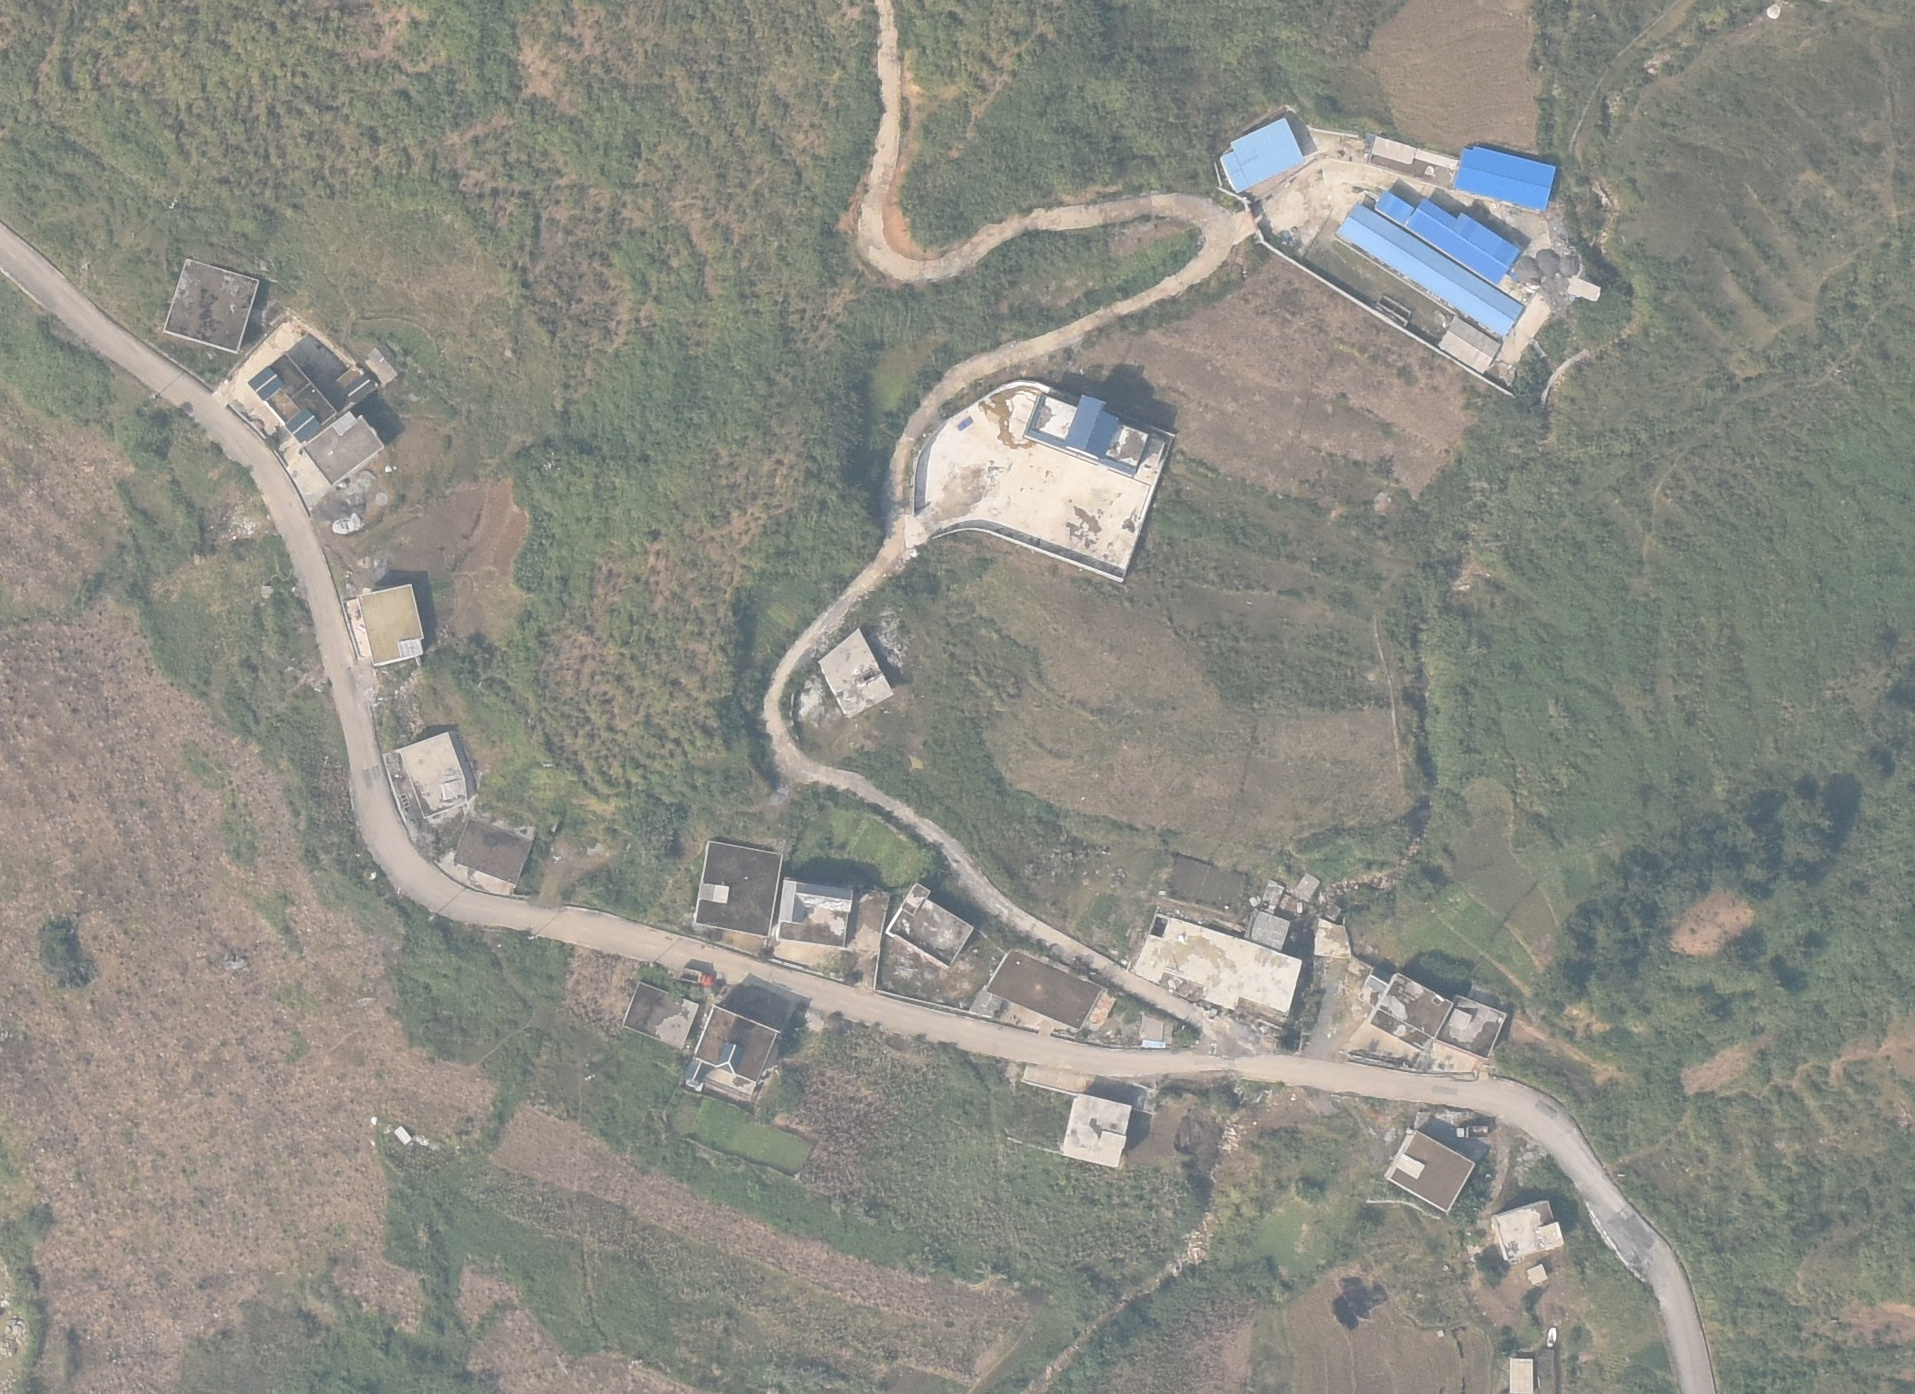building: (1137, 911, 1308, 1015), (1024, 391, 1152, 473), (687, 840, 785, 941), (1381, 1120, 1483, 1214), (696, 999, 780, 1112), (377, 728, 479, 820), (883, 876, 976, 971), (805, 627, 897, 723), (167, 257, 259, 351), (455, 800, 540, 898), (1367, 969, 1455, 1052), (354, 581, 432, 673), (305, 412, 389, 488), (767, 863, 860, 931), (622, 971, 700, 1050), (1066, 1090, 1137, 1169), (1469, 1198, 1562, 1258), (1445, 988, 1512, 1062), (1244, 908, 1291, 952), (1312, 915, 1354, 960), (364, 346, 406, 383), (245, 365, 282, 400), (283, 408, 321, 441), (344, 372, 375, 406), (1507, 1355, 1534, 1394), (1256, 877, 1284, 914), (1293, 872, 1321, 904)
landslide: (988, 952, 1121, 1033)
prefabricated-house: (1341, 201, 1529, 333), (1406, 197, 1520, 282), (1448, 136, 1560, 215), (1210, 114, 1310, 194), (1441, 317, 1503, 376), (1369, 130, 1417, 172), (1372, 187, 1412, 224), (1416, 145, 1463, 176)
vehicle: (954, 415, 975, 431)
